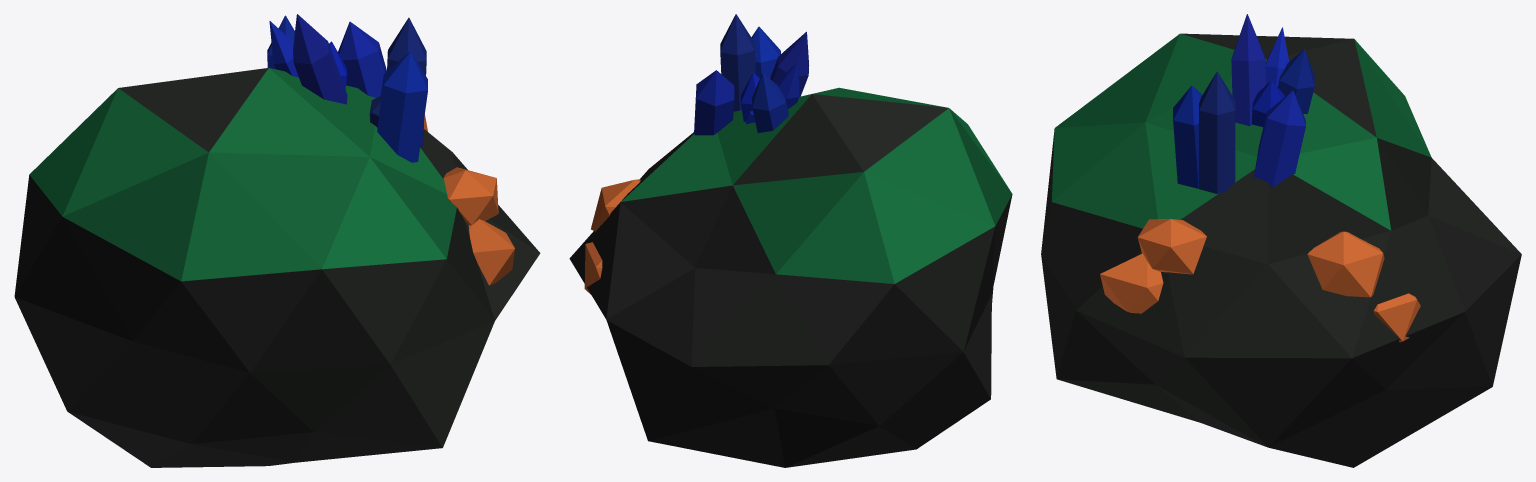
File: copper_ore.glb
The picture shows the model from 3 angles, left to right: view 1: azimuth 30°, elevation 25°; view 2: azimuth 150°, elevation 25°; view 3: azimuth 270°, elevation 25°; orthographic projection. The views are drawn at different scales.
Parts seen in each view (by area): view 1: Ore; view 2: Ore; view 3: Ore.
Part boxes in pixels (<box>): Ore: <box>14,14,540,467</box>; Ore: <box>569,14,1012,467</box>; Ore: <box>1041,14,1521,467</box>.
Bounding box in the file's own units: 0.8698 × 0.86 × 0.8799.
